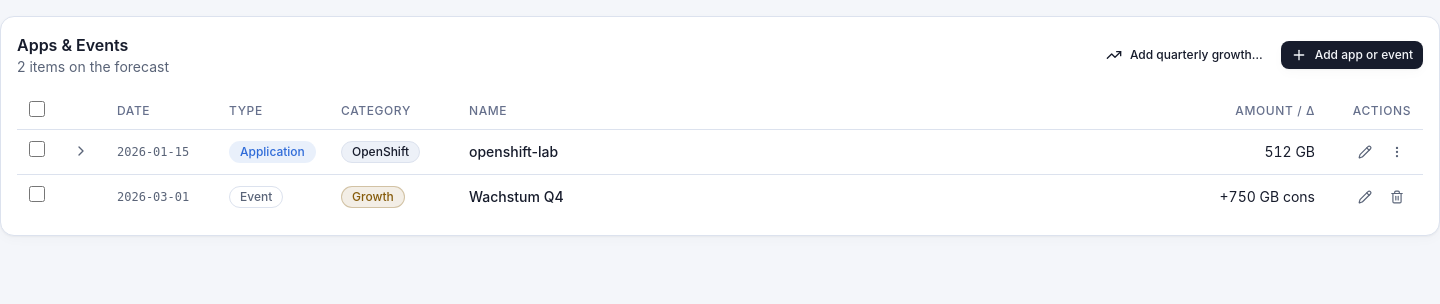
Test case: ItemsTab › routes app row actions through an honest kebab (WCAG 3.2.4)
Expected: the text "openshift-lab" is shown, [469,142,558,160]
Expected: the button named "Edit" in the row of "2026-01-15" is shown, [1351,138,1379,166]
Click the button named "More actions".
click(1397, 152)  # box [1383,138,1411,166]
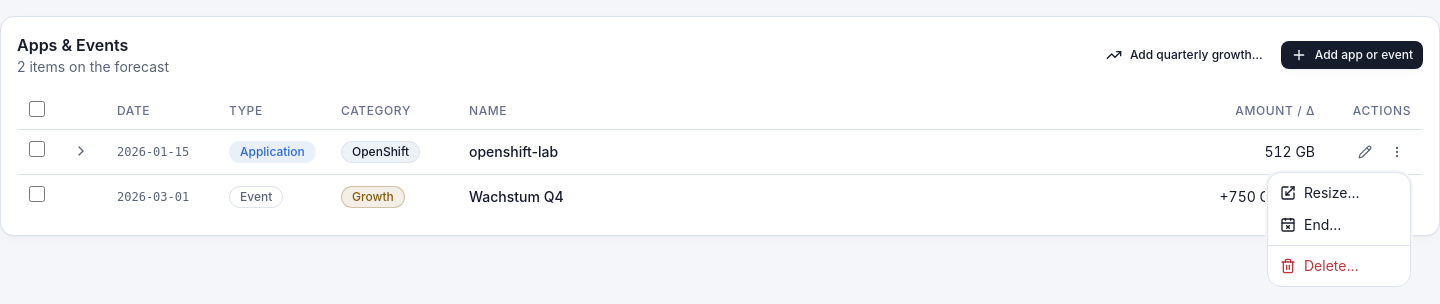
Result: the menu item "Resize…" is shown at [1280,184,1360,201]
Result: the menu item "End…" is shown at [1280,216,1341,233]
Result: the menu item "Delete…" is shown at [1280,257,1358,274]
